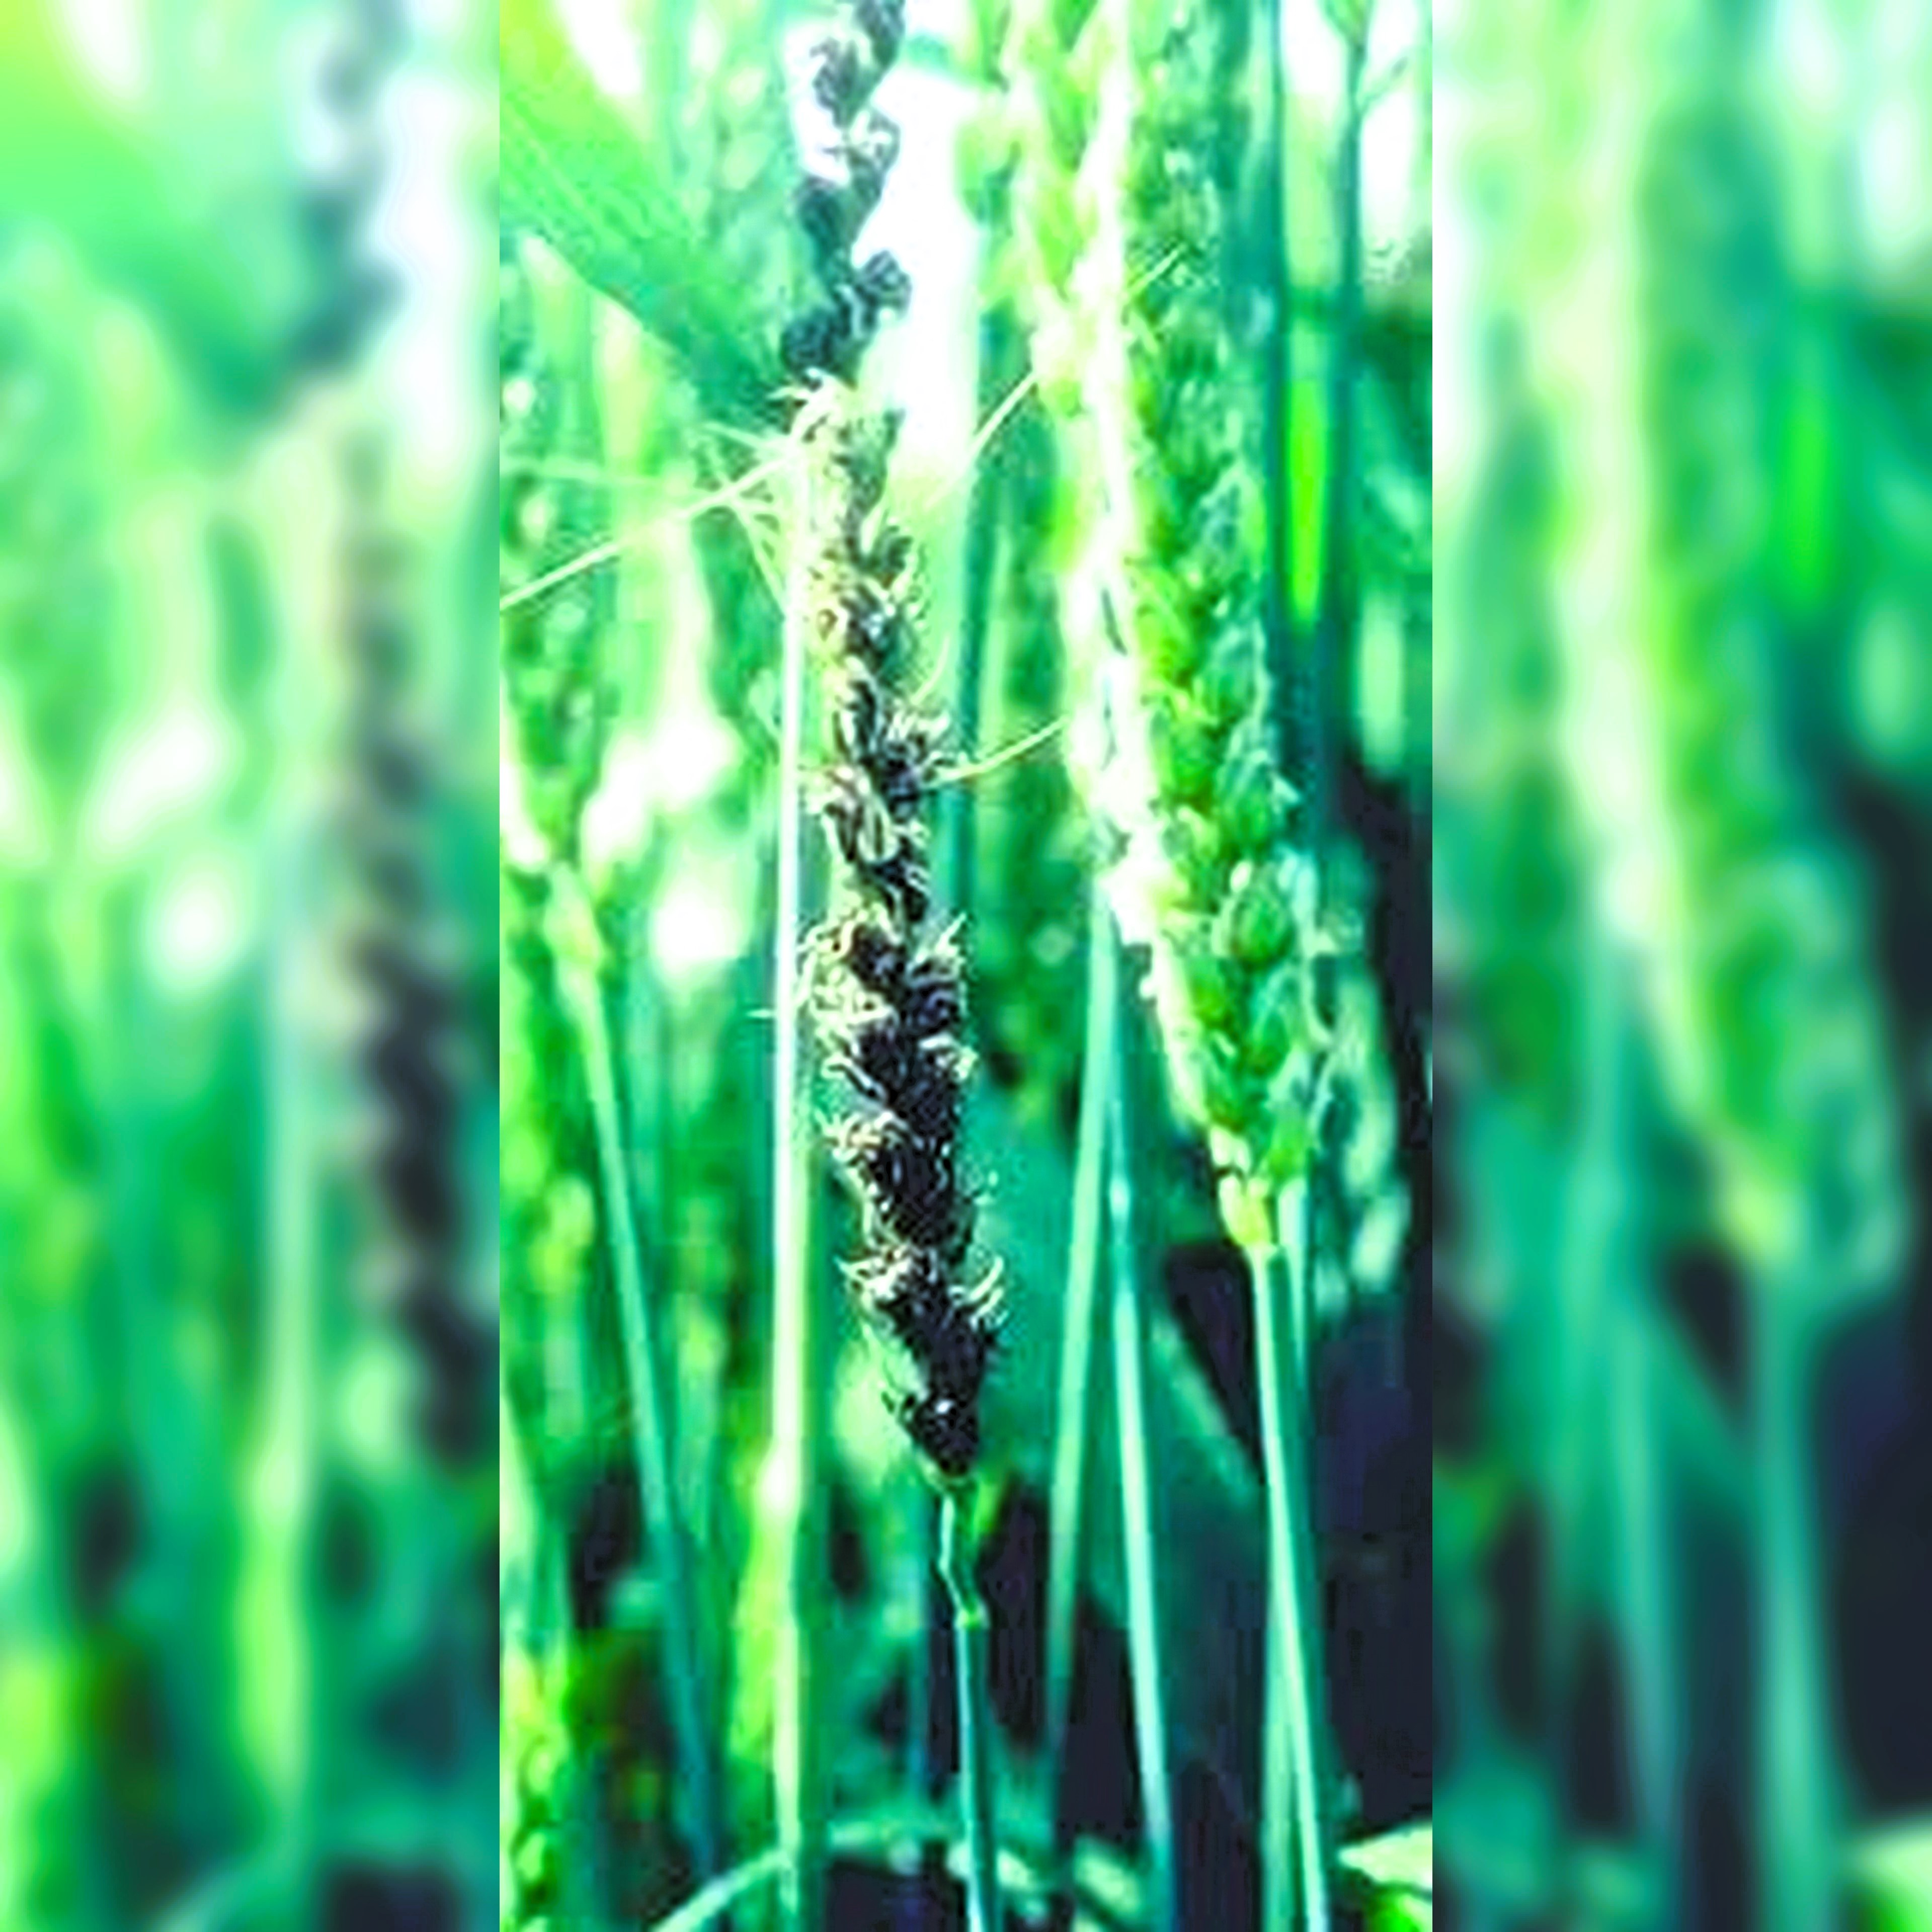Wheat Loose Smut: (759, 648, 1063, 1447)
